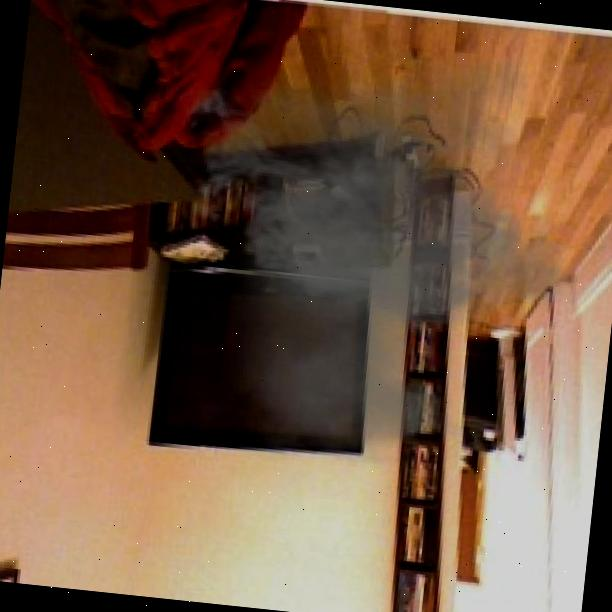smoke: (138, 26, 604, 489)
